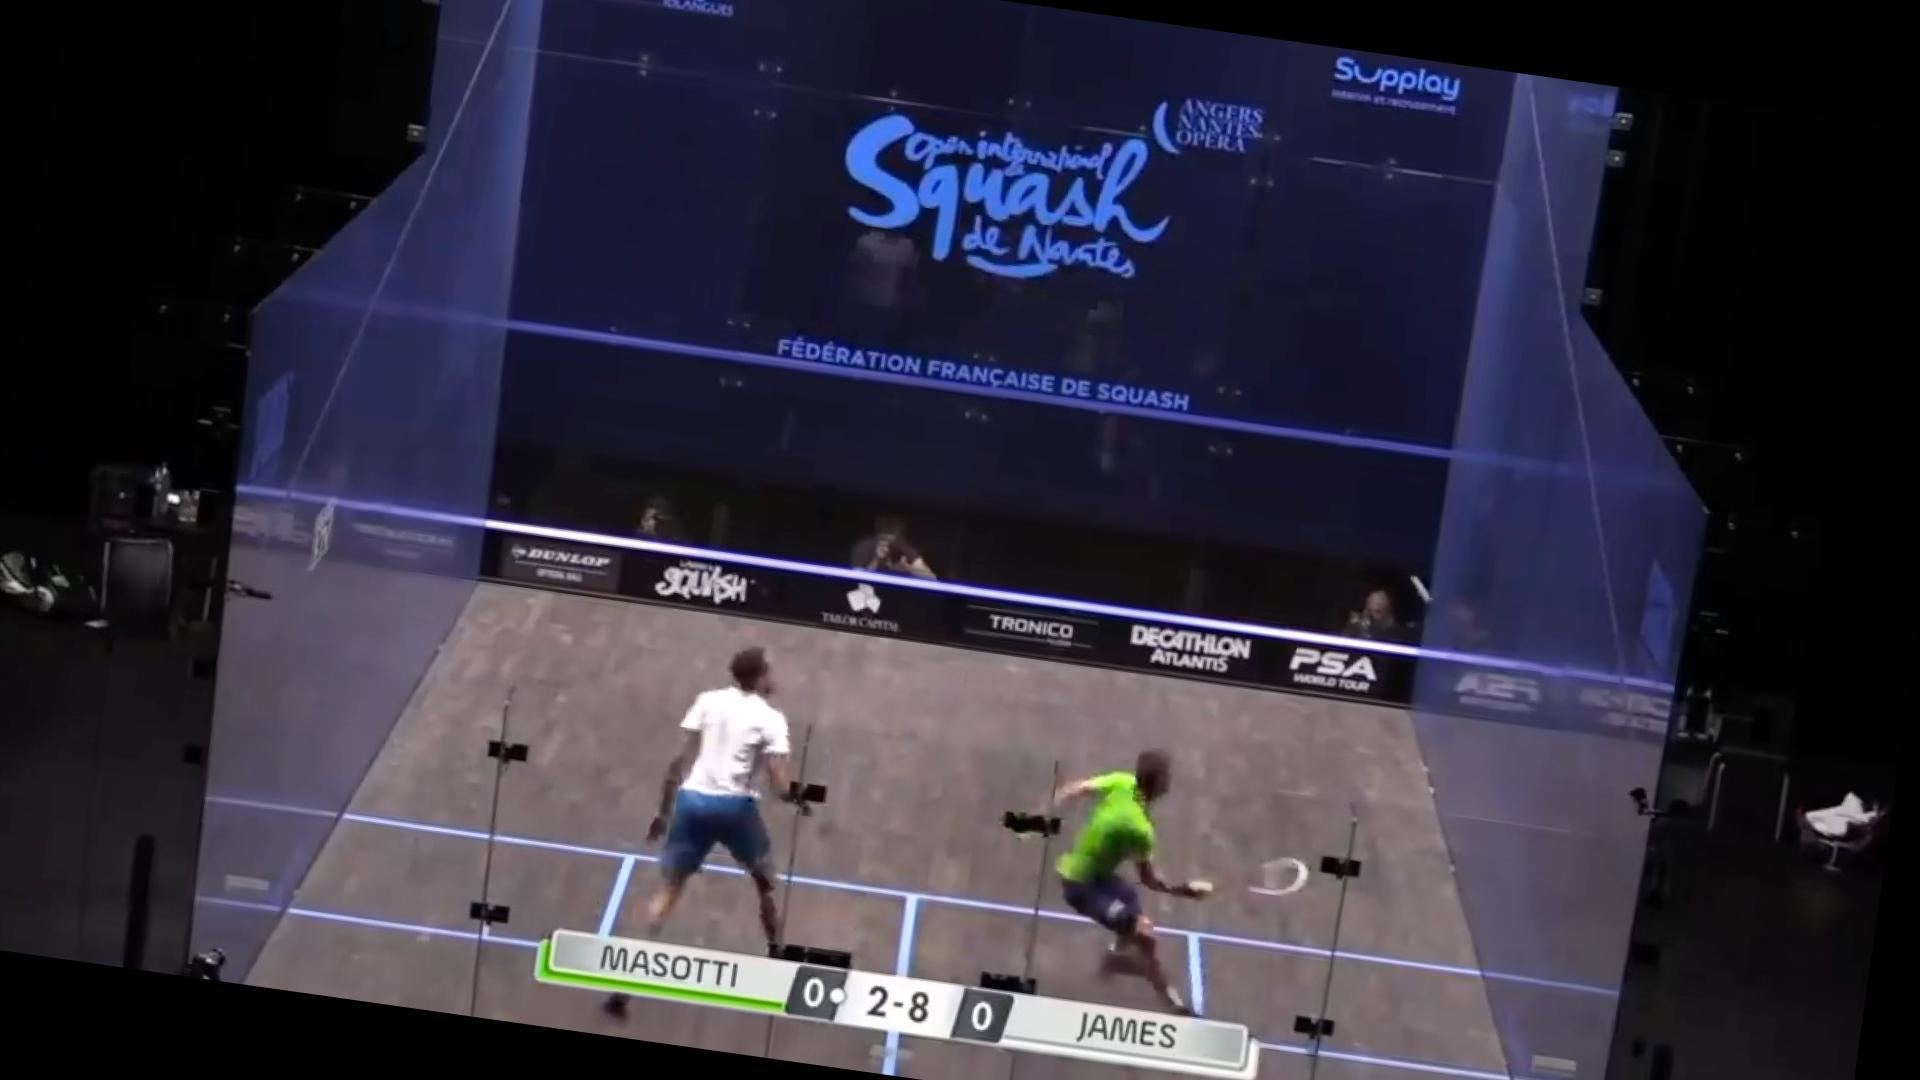Squash-Ball: (1393, 558, 1448, 617)
